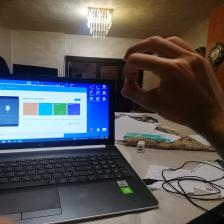five: (114, 33, 220, 128)
